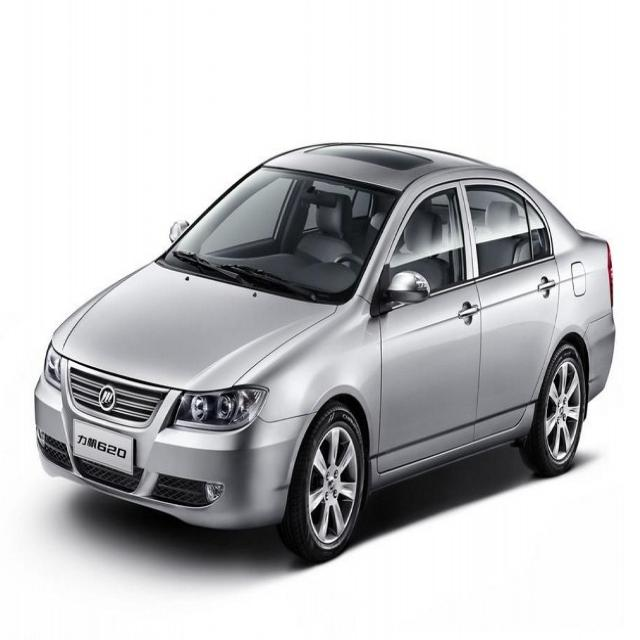back_left_side_light: (606, 241, 615, 310)
door: (457, 182, 562, 431)
front_bumper: (30, 374, 319, 531)
front_glass: (172, 164, 403, 298)
front_left_side_door: (375, 178, 484, 475)
front_left_side_light: (169, 384, 270, 432)
front_left_side_mirror: (381, 269, 431, 305)
front_right_side_light: (43, 339, 63, 394)
front_right_side_mirror: (168, 219, 190, 244)
wheel: (284, 403, 366, 562), (519, 340, 587, 478)
